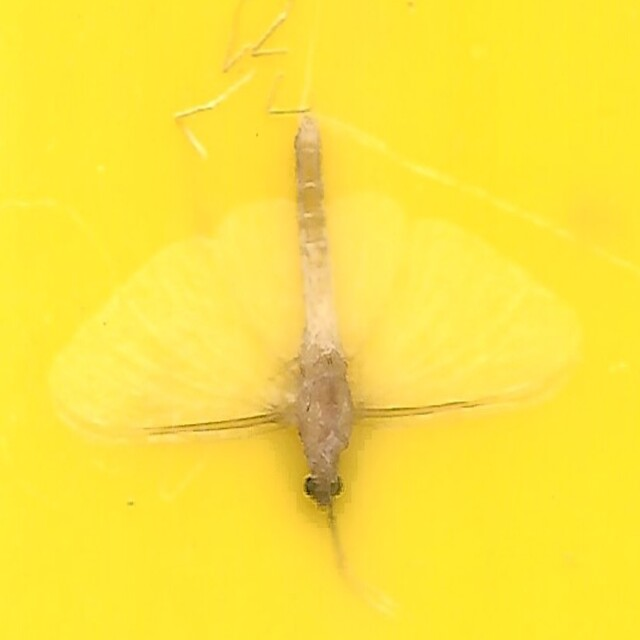Ephemeroptera: (78, 119, 562, 521)
